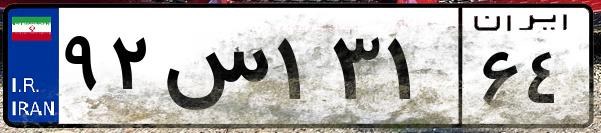1: (270, 28, 330, 110), (385, 28, 445, 110)
2: (110, 28, 158, 98)
3: (330, 28, 385, 110)
4: (525, 38, 570, 115)
6: (475, 38, 525, 113)
9: (57, 26, 110, 100)
س: (158, 20, 270, 120)
